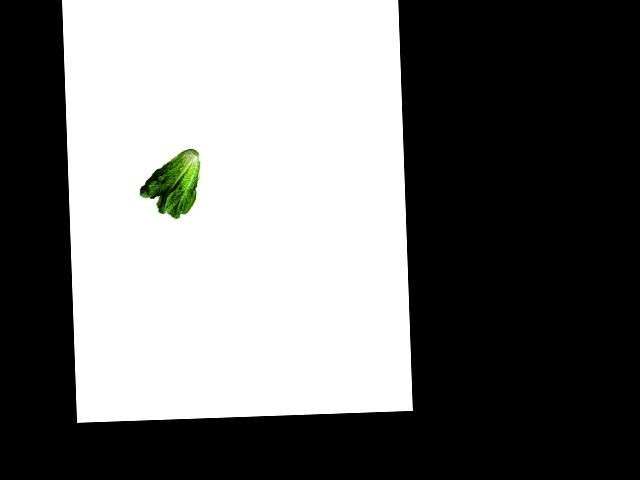lettuce: (134, 150, 205, 219)
